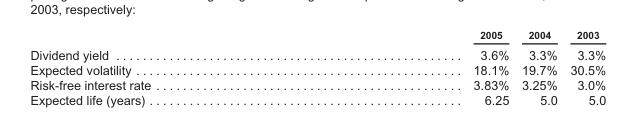table: (29, 28, 605, 106)
table column: (29, 28, 311, 106), (311, 28, 514, 106), (514, 28, 563, 106), (563, 28, 605, 106)
table column header: (29, 28, 605, 43)
table row: (29, 43, 605, 61), (29, 76, 605, 92), (29, 28, 605, 43), (29, 61, 605, 76), (29, 92, 605, 106)
